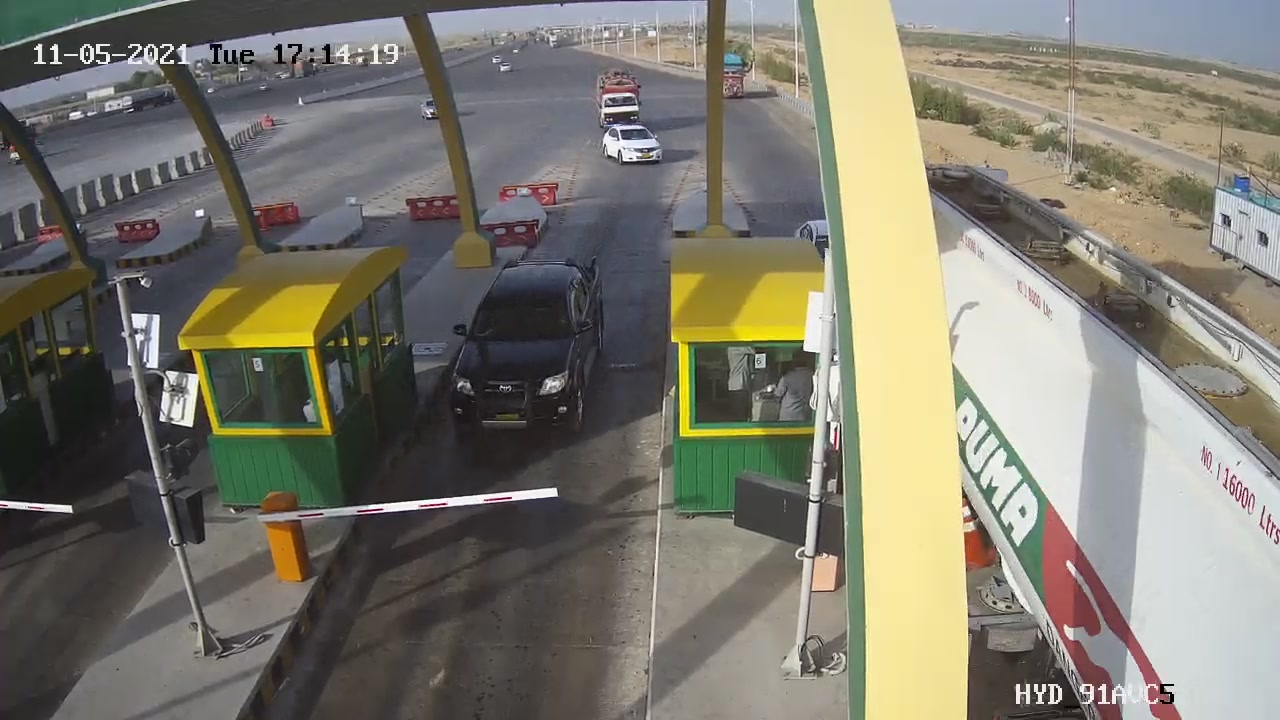F1: (430, 236, 626, 465)
